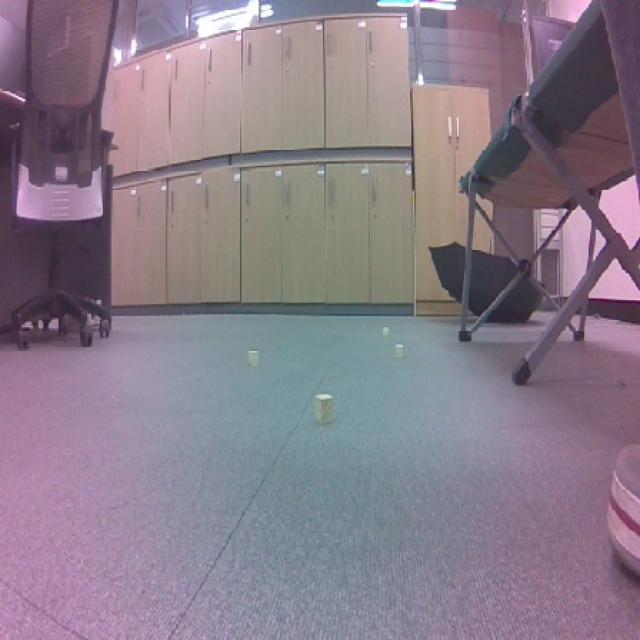obstacle: (307, 387, 343, 434)
